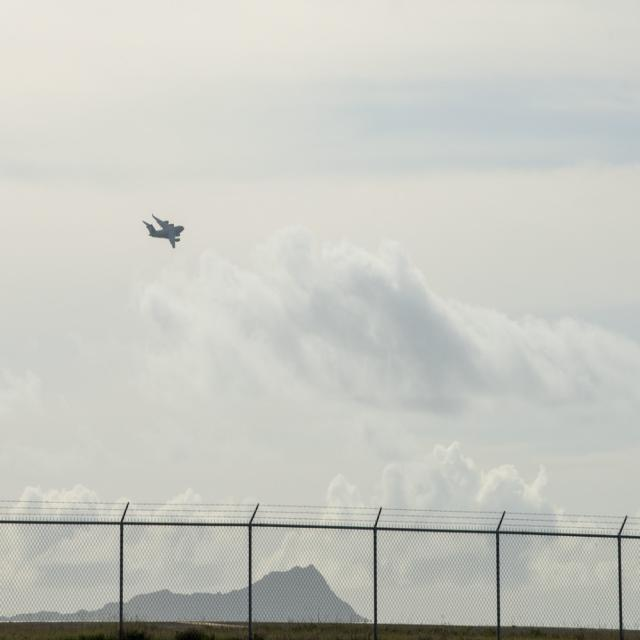MIL_Plane: (143, 214, 183, 248)
